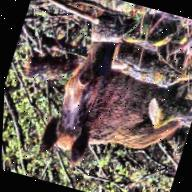boar: (31, 25, 192, 192)
